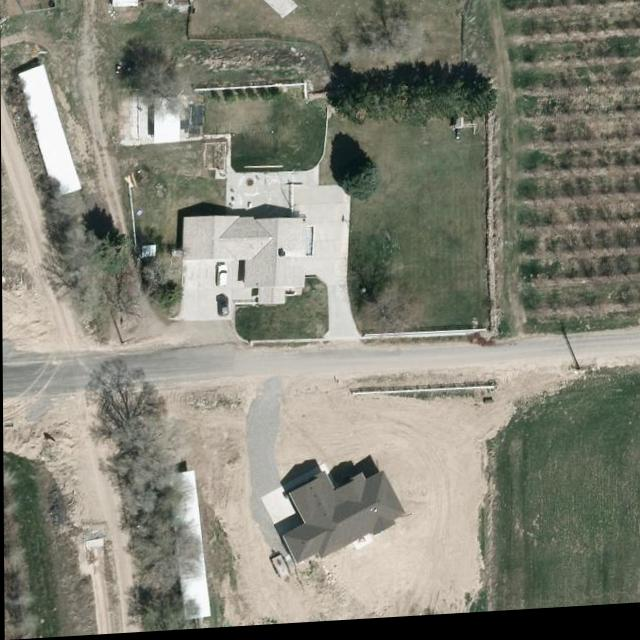vehicle: (215, 267, 227, 290), (217, 297, 229, 320)
